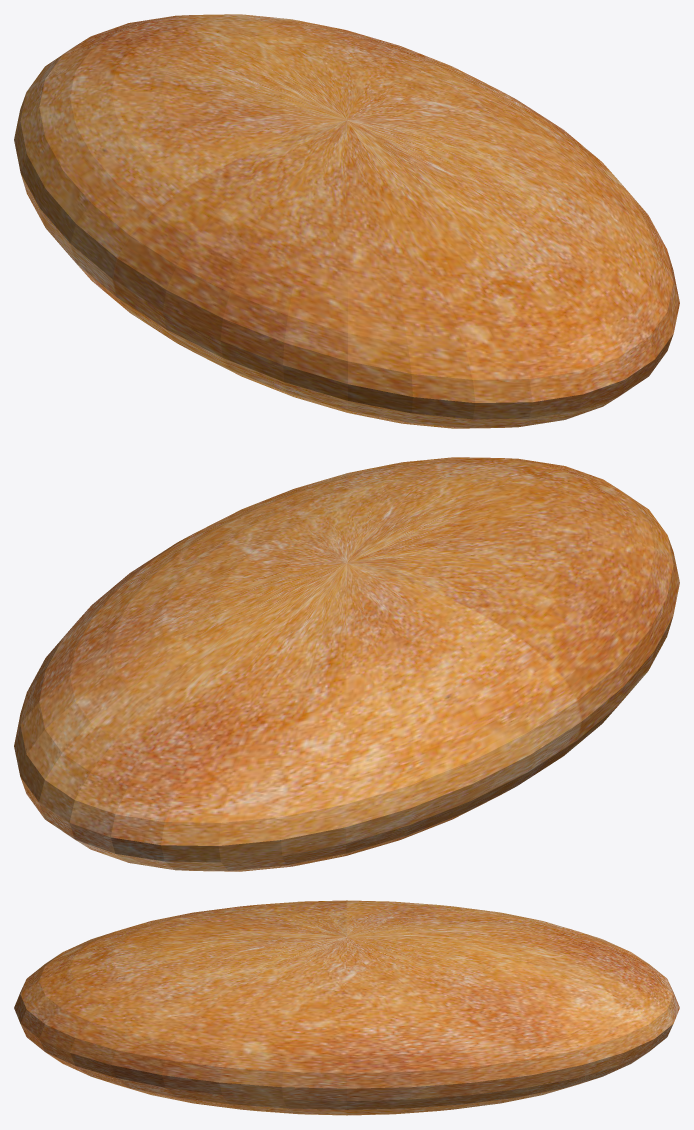
Rendered from Bread.obj.
The picture shows the model from 3 angles, top to bottom: view 1: azimuth 30°, elevation 25°; view 2: azimuth 150°, elevation 25°; view 3: azimuth 270°, elevation 25°; orthographic projection. The views are drawn at different scales.
Visible parts, largest first — view 1: Sphere.001; view 2: Sphere.001; view 3: Sphere.001.
Boxes of the visible parts, <box> form: Sphere.001: <box>14,14,679,428</box>; Sphere.001: <box>14,457,679,871</box>; Sphere.001: <box>14,900,679,1115</box>.
Bounding box in the file's own units: 1 × 0.4129 × 1.75.
Materials: 1 (1 with a texture image).
